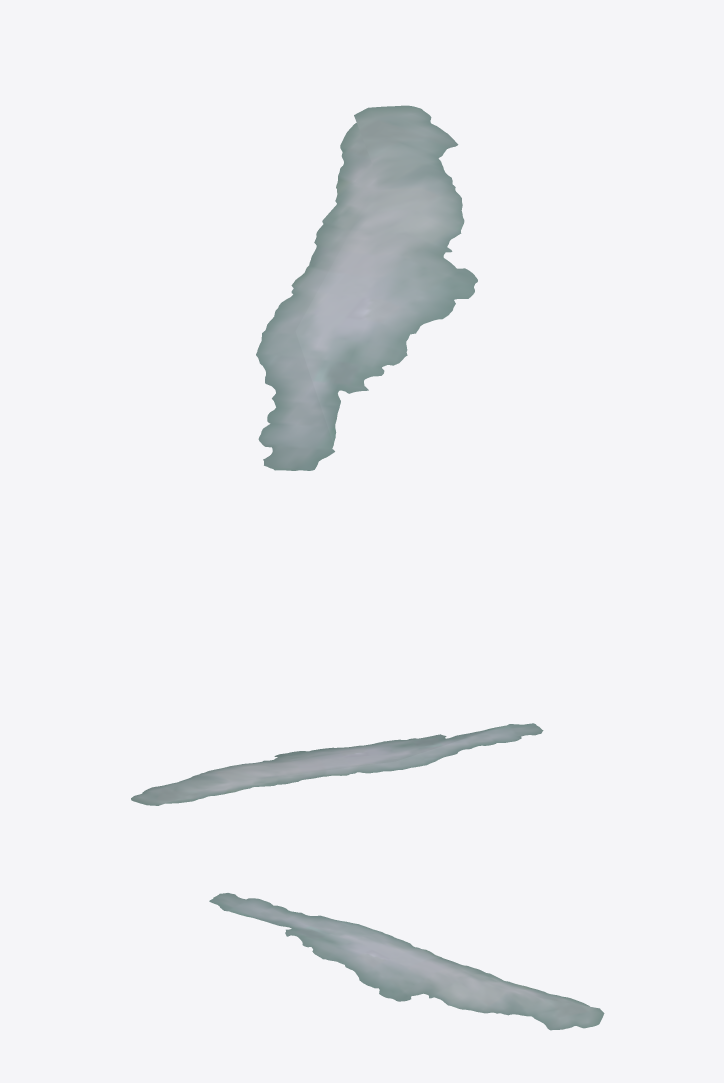
File: pref_sm_beach_winter_toproadsand04a_lv3.fbx
The picture shows the model from 3 angles, top to bottom: view 1: azimuth 30°, elevation 25°; view 2: azimuth 150°, elevation 25°; view 3: azimuth 270°, elevation 25°; orthographic projection. The views are drawn at different scales.
Visible parts, largest first — view 1: pref_sm_beach_winter_toproadsand04a_lv3; view 2: pref_sm_beach_winter_toproadsand04a_lv3; view 3: pref_sm_beach_winter_toproadsand04a_lv3.
Boxes of the visible parts, bbox=[...] form: pref_sm_beach_winter_toproadsand04a_lv3: bbox=[256, 105, 477, 470]; pref_sm_beach_winter_toproadsand04a_lv3: bbox=[131, 723, 543, 805]; pref_sm_beach_winter_toproadsand04a_lv3: bbox=[209, 893, 604, 1030].
Bounding box in the file's own units: 4.02 × 0.1141 × 5.74.
